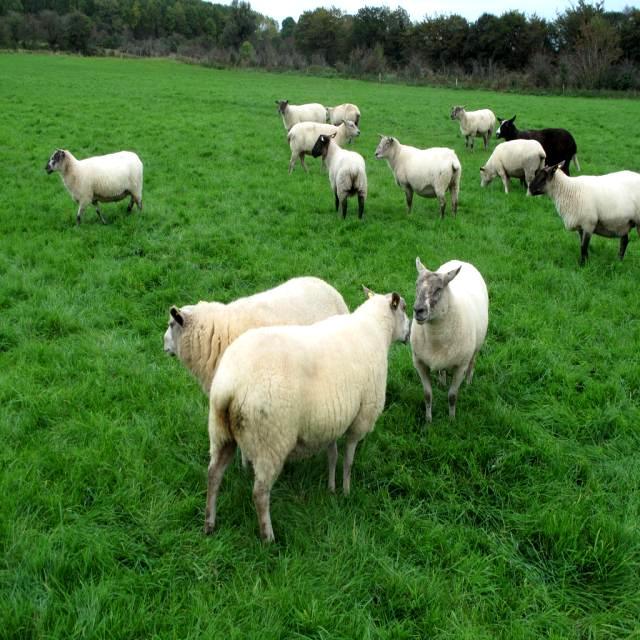sheep: (206, 288, 403, 540), (45, 148, 142, 217)
